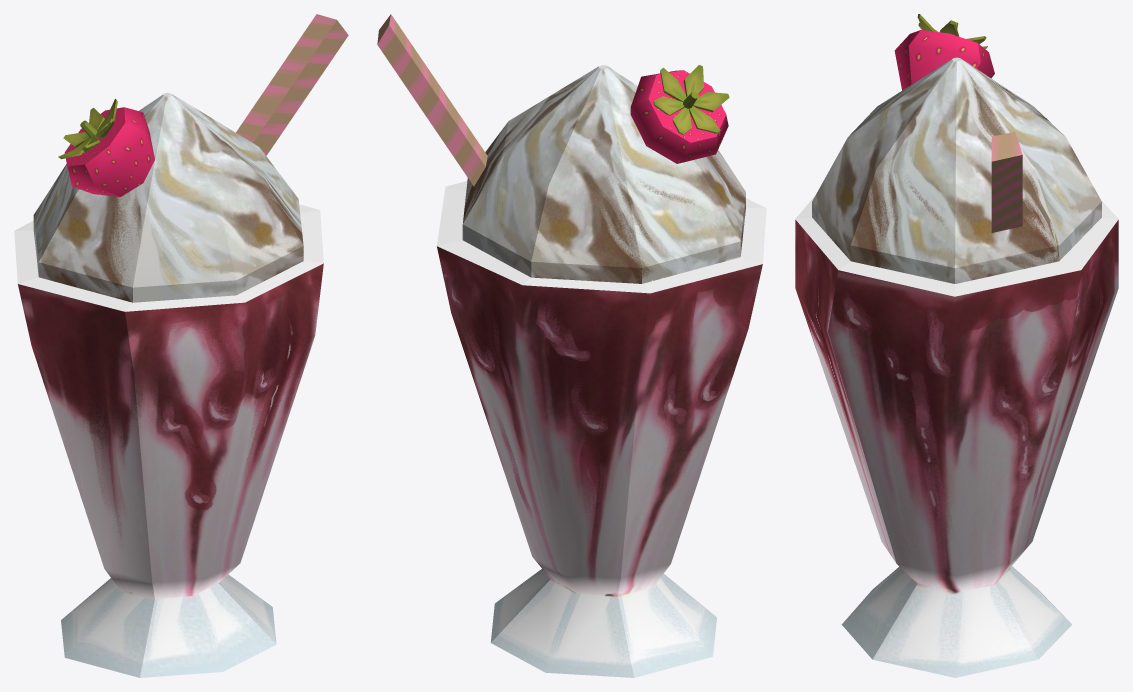
The model's file is FresaShake.fbx.
3 renders of one model, left to right at view 1: azimuth 30°, elevation 25°; view 2: azimuth 150°, elevation 25°; view 3: azimuth 270°, elevation 25°, orthographic. The views are drawn at different scales.
Parts seen in each view (by area): view 1: BatidoFresa, Fresa, HojasFresa; view 2: BatidoFresa, Fresa, HojasFresa; view 3: BatidoFresa, Fresa.
Part boxes in pixels (x1,y1,x2,y2): BatidoFresa: (14,14,348,677); Fresa: (64,107,154,196); HojasFresa: (58,99,117,159); BatidoFresa: (377,14,766,677); Fresa: (630,70,728,163); HojasFresa: (653,65,729,134); BatidoFresa: (795,57,1118,677); Fresa: (894,22,994,90).
Size of the model in its own units: 0.4774 by 0.726 by 0.3651.
